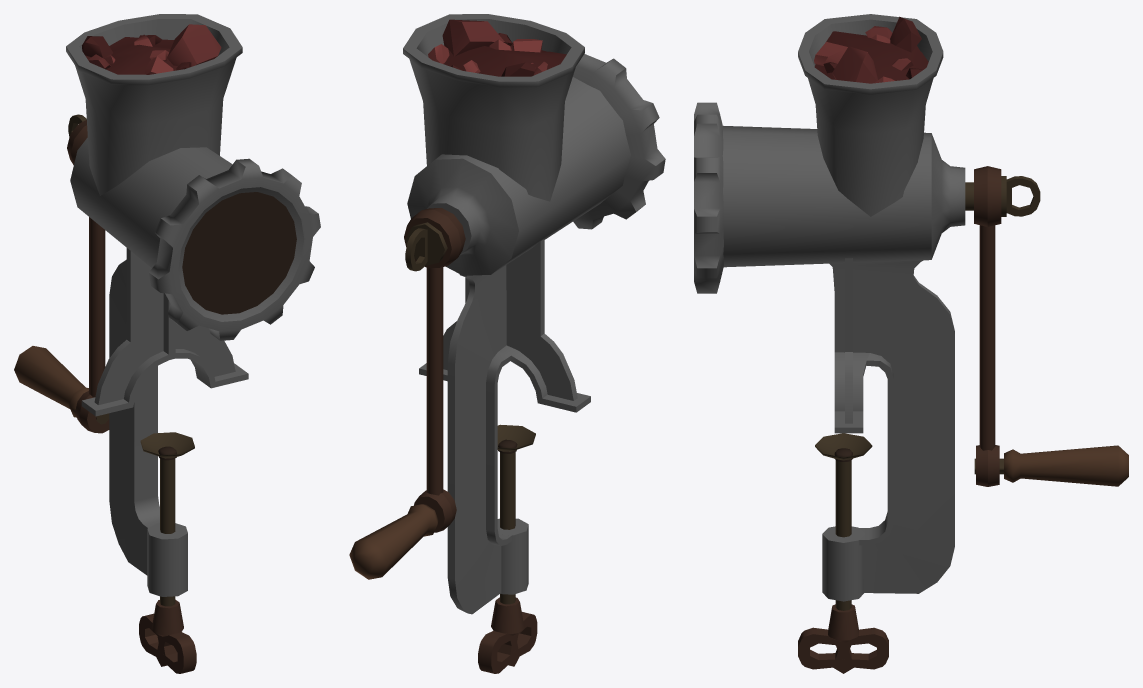
Rendered from meat grinder low.fbx.
3 views of the same model, side by side, from view 1: azimuth 30°, elevation 25°; view 2: azimuth 150°, elevation 25°; view 3: azimuth 270°, elevation 25° (orthographic). The views are drawn at different scales.
Visible parts, largest first — view 1: polySurface17, pCylinder20, pCylinder4, pCylinder15, polySurface15, polySurface14, polySurface13, pCylinder8, pCylinder13, pCylinder10, polySurface10, pCube16 (+7 smaller); view 2: polySurface17, pCylinder15, polySurface13, pCylinder20, polySurface15, pCylinder8, polySurface14, pCylinder10, polySurface18, pCylinder13, polySurface10, pCylinder7 (+7 smaller); view 3: polySurface13, pCylinder15, polySurface17, pCylinder20, pCylinder10, polySurface14, pCylinder8, pCylinder13, polySurface10, polySurface18, pCylinder7, pCylinder14 (+7 smaller).
Boxes of the visible parts, box(x1,y1,x2,y2) form: polySurface17: box(66, 14, 242, 195); pCylinder20: box(149, 158, 320, 340); pCylinder4: box(182, 192, 296, 314); pCylinder15: box(70, 137, 232, 267); polySurface15: box(94, 248, 235, 405); polySurface14: box(81, 349, 248, 532); polySurface13: box(109, 259, 175, 575); pCylinder8: box(89, 217, 105, 397); pCylinder13: box(147, 523, 187, 596); pCylinder10: box(14, 346, 88, 417); polySurface10: box(139, 613, 196, 673); pCube16: box(167, 24, 221, 66); polySurface17: box(403, 14, 584, 201); pCylinder15: box(407, 77, 630, 275); polySurface13: box(447, 265, 506, 614); pCylinder20: box(573, 54, 665, 229); polySurface15: box(443, 239, 577, 400); pCylinder8: box(426, 267, 443, 495); polySurface14: box(419, 345, 590, 546); pCylinder10: box(349, 504, 438, 579); polySurface18: box(443, 45, 566, 76); pCylinder13: box(497, 518, 528, 594); polySurface10: box(478, 612, 537, 673); pCylinder7: box(404, 208, 465, 268); polySurface13: box(829, 260, 954, 593); pCylinder15: box(722, 125, 965, 267); polySurface17: box(798, 14, 943, 216); pCylinder20: box(694, 102, 723, 293); pCylinder10: box(1004, 445, 1128, 486); polySurface14: box(834, 352, 893, 545); pCylinder8: box(979, 225, 995, 450); pCylinder13: box(822, 526, 864, 601); polySurface10: box(798, 627, 888, 673); polySurface18: box(814, 31, 928, 80); pCylinder7: box(974, 166, 1001, 226); pCylinder14: box(835, 460, 851, 610).
Bounding box in the file's own units: 12.02 × 44.11 × 27.38.
